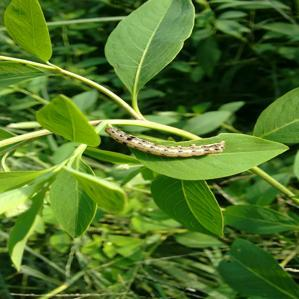Tobacco cutworm: (93, 114, 234, 184)
